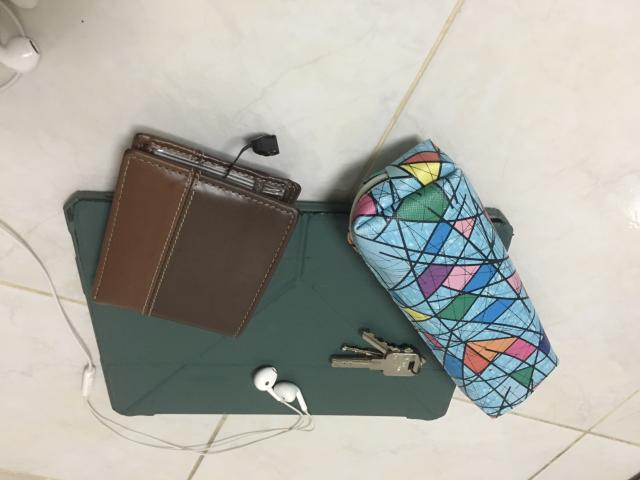Keys: (331, 331, 426, 376)
Wallet: (91, 132, 300, 336)
wire: (0, 221, 314, 460)
